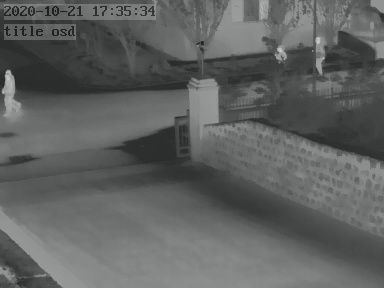person: (1, 68, 22, 118), (311, 35, 327, 74)
